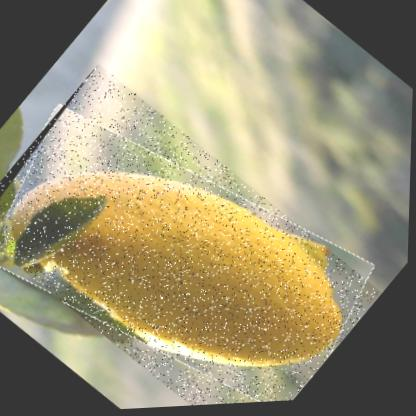lemon: (0, 52, 389, 415)
